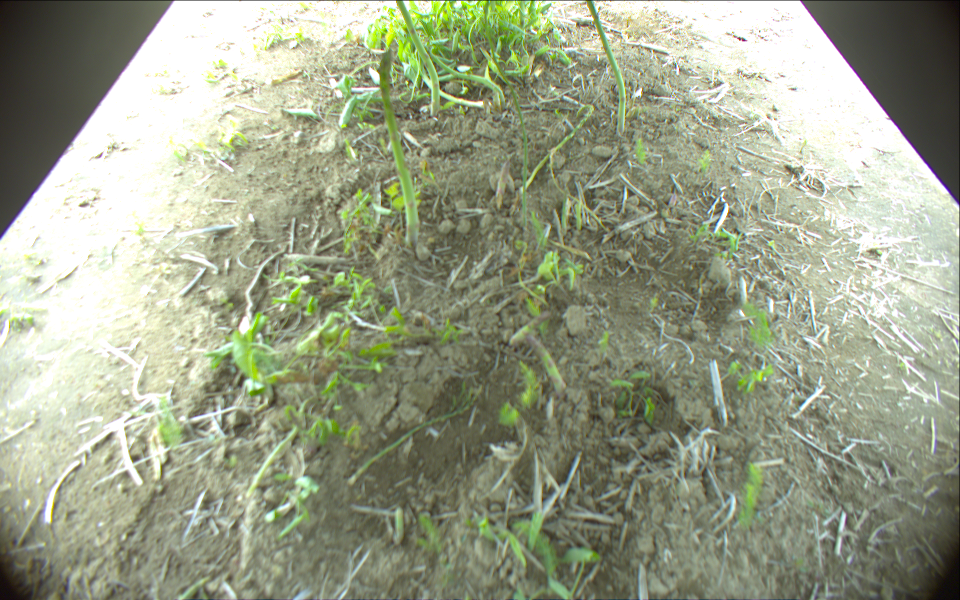aspa: (347, 386, 482, 480), (373, 48, 420, 242), (484, 51, 530, 230), (515, 103, 595, 195), (584, 1, 626, 132), (423, 43, 507, 106), (396, 1, 441, 114), (407, 50, 486, 109), (521, 330, 565, 390)
